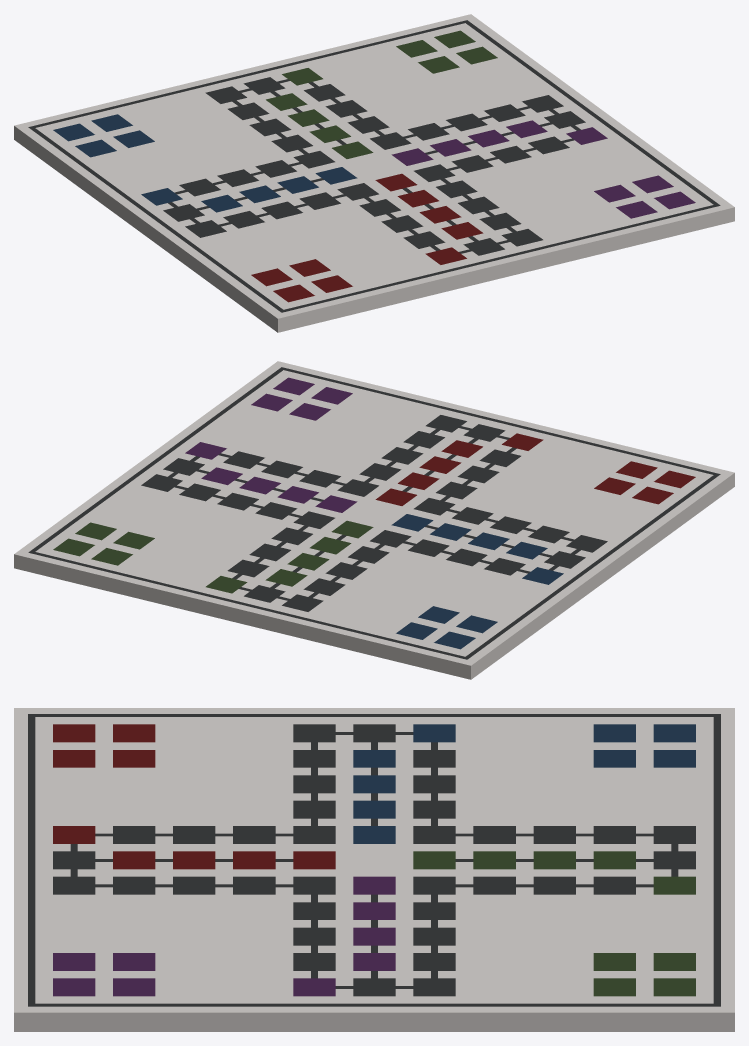
File: ludo-board-white-black.gltf
3 renders of one model, top to bottom at view 1: azimuth 30°, elevation 25°; view 2: azimuth 150°, elevation 25°; view 3: azimuth 270°, elevation 25°, orthographic. The views are drawn at different scales.
Visible parts, largest first — view 1: Untitled; view 2: Untitled; view 3: Untitled.
Boxes of the visible parts, x1,y1,x2,y2 form: Untitled: (14, 14, 734, 332); Untitled: (14, 361, 734, 679); Untitled: (14, 708, 734, 1031).
Bounding box in the file's own units: 20.4 × 0.6 × 20.4.
1 material, 1 textured.
